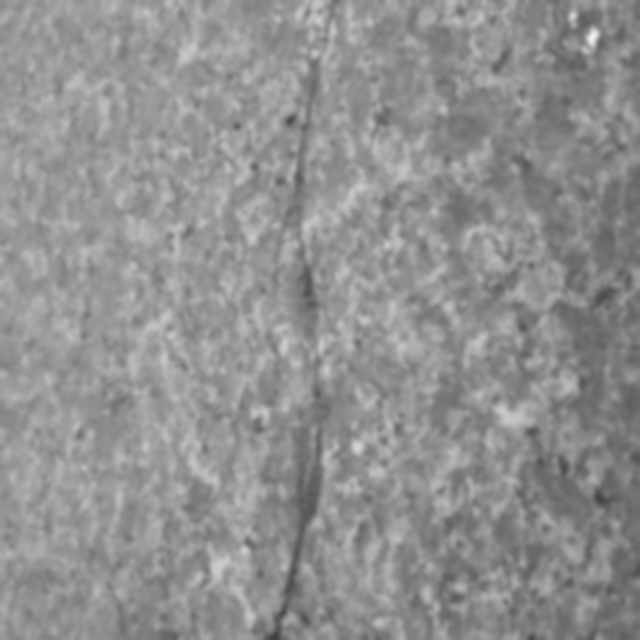SurfaceCrack: (200, 0, 389, 640)
